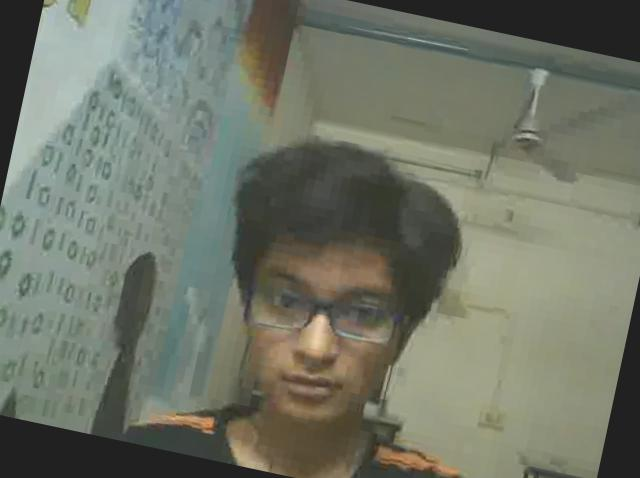bingung: (222, 213, 416, 440)
